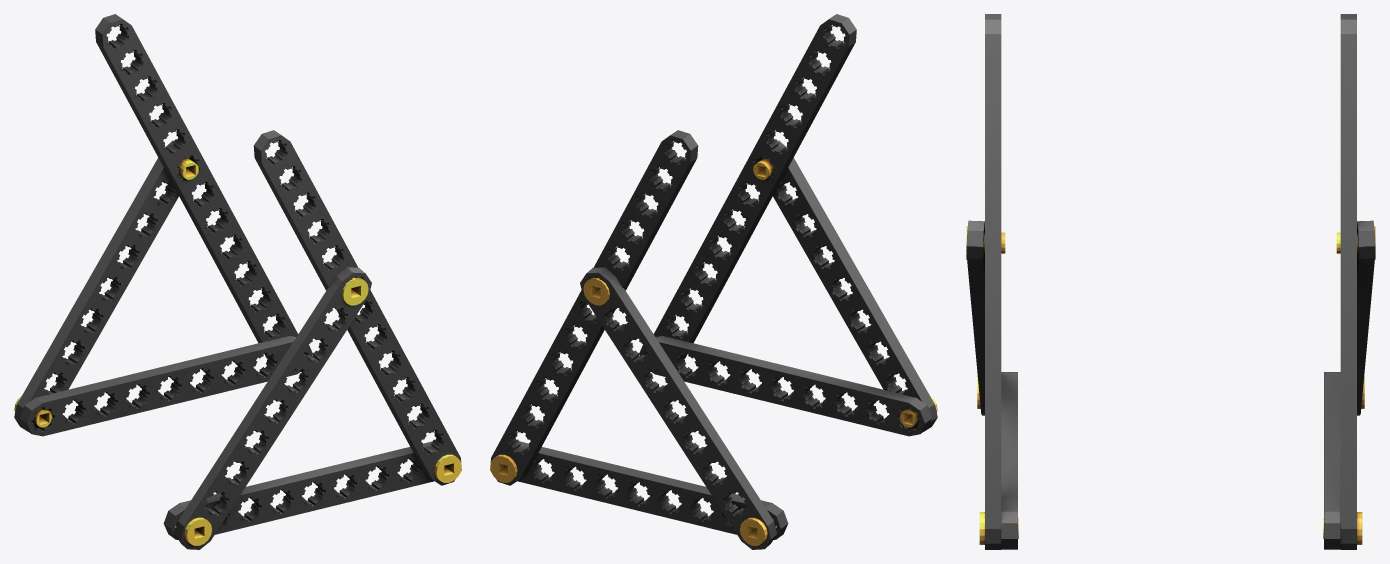
3 renders of one model, left to right at view 1: azimuth 30°, elevation 25°; view 2: azimuth 150°, elevation 25°; view 3: azimuth 270°, elevation 25°, orthographic. The views are drawn at different scales.
Visible parts, largest first — view 1: 1.1_swing-p1; view 2: 1.1_swing-p1; view 3: 1.1_swing-p1.
Boxes of the visible parts, box(x1,y1,x2,y2) form: 1.1_swing-p1: box(14, 14, 461, 549); 1.1_swing-p1: box(490, 14, 937, 549); 1.1_swing-p1: box(966, 14, 1375, 549).
Bounding box in the file's own units: 0.0898 × 0.1181 × 0.0993.
Materials: 1 (1 with a texture image).
